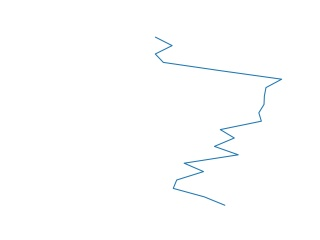floodPlain: (152, 35, 284, 208)
